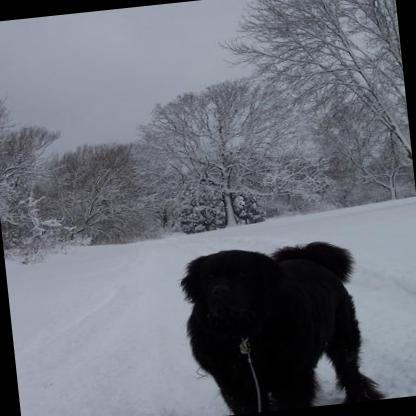Newfoundland: (165, 227, 394, 416)
